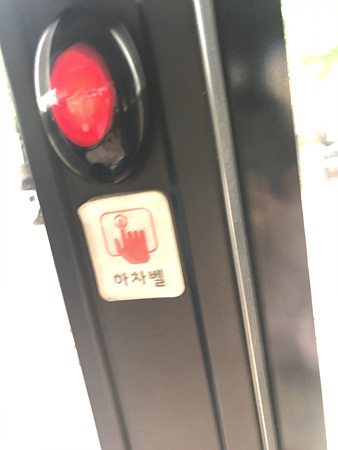bell: (32, 7, 152, 183)
